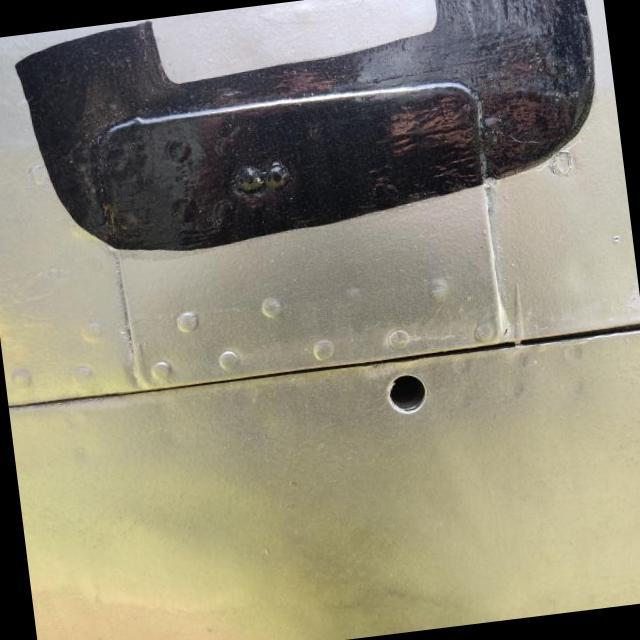Fastener Damage: (348, 330, 466, 452)
